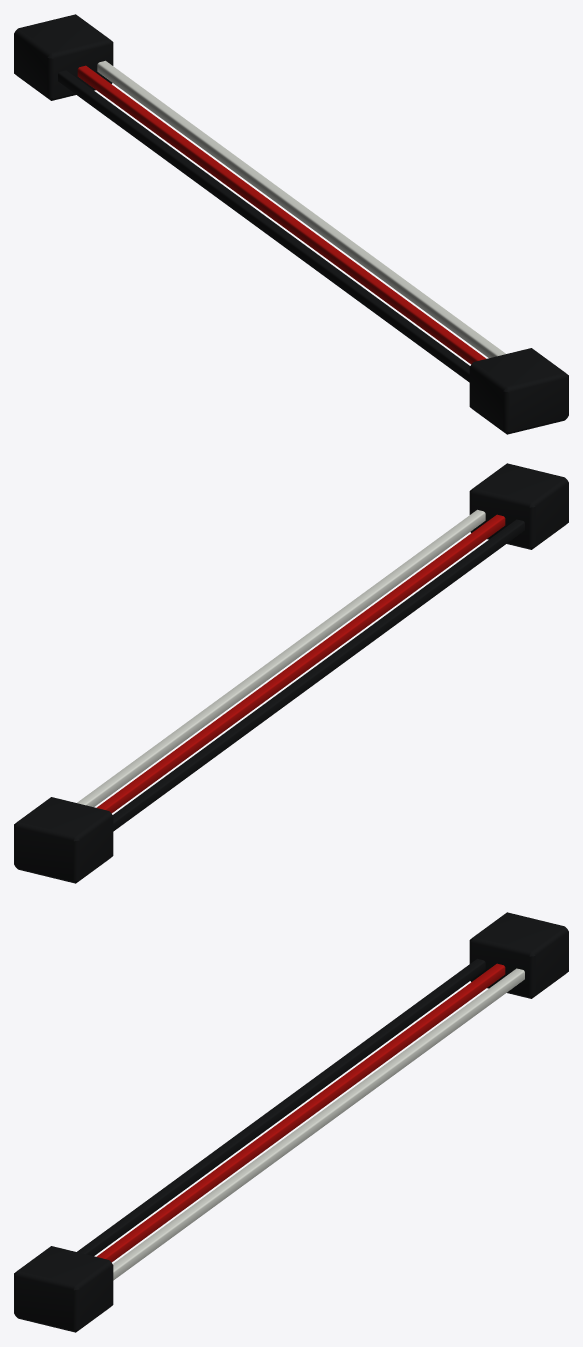
The model's file is electronics_017.obj.
3 renders of one model, top to bottom at view 1: azimuth 30°, elevation 25°; view 2: azimuth 150°, elevation 25°; view 3: azimuth 330°, elevation 25°, orthographic.
Size of the model in its own units: 0.01 by 0.007 by 0.13.
